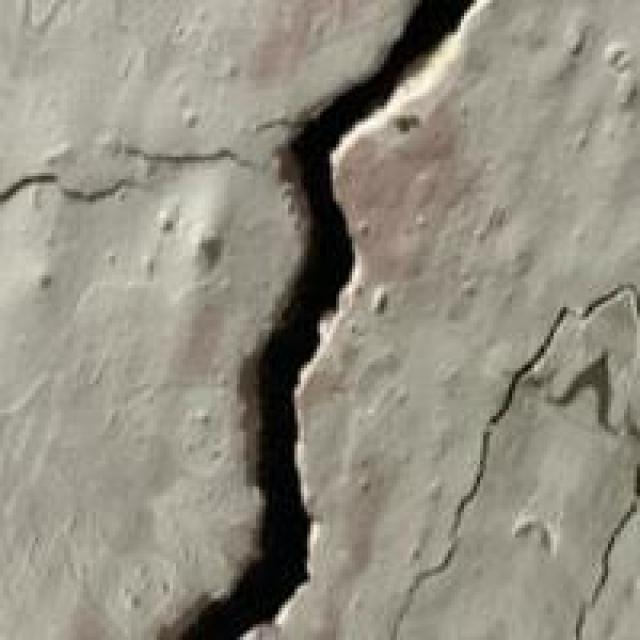crack: (154, 0, 522, 637)
